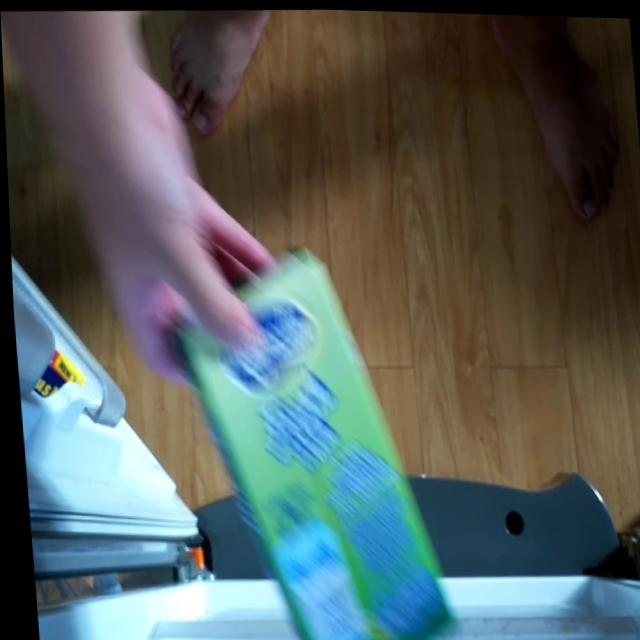milk: (161, 236, 454, 640)
